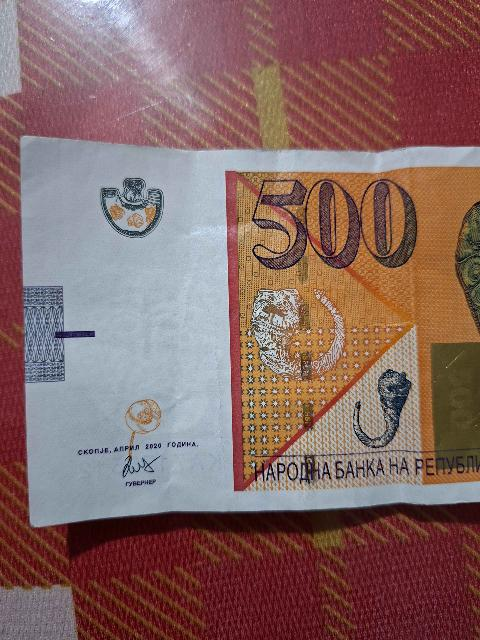500_note: (18, 133, 479, 527)
